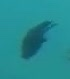smallfish: (18, 15, 61, 63)
